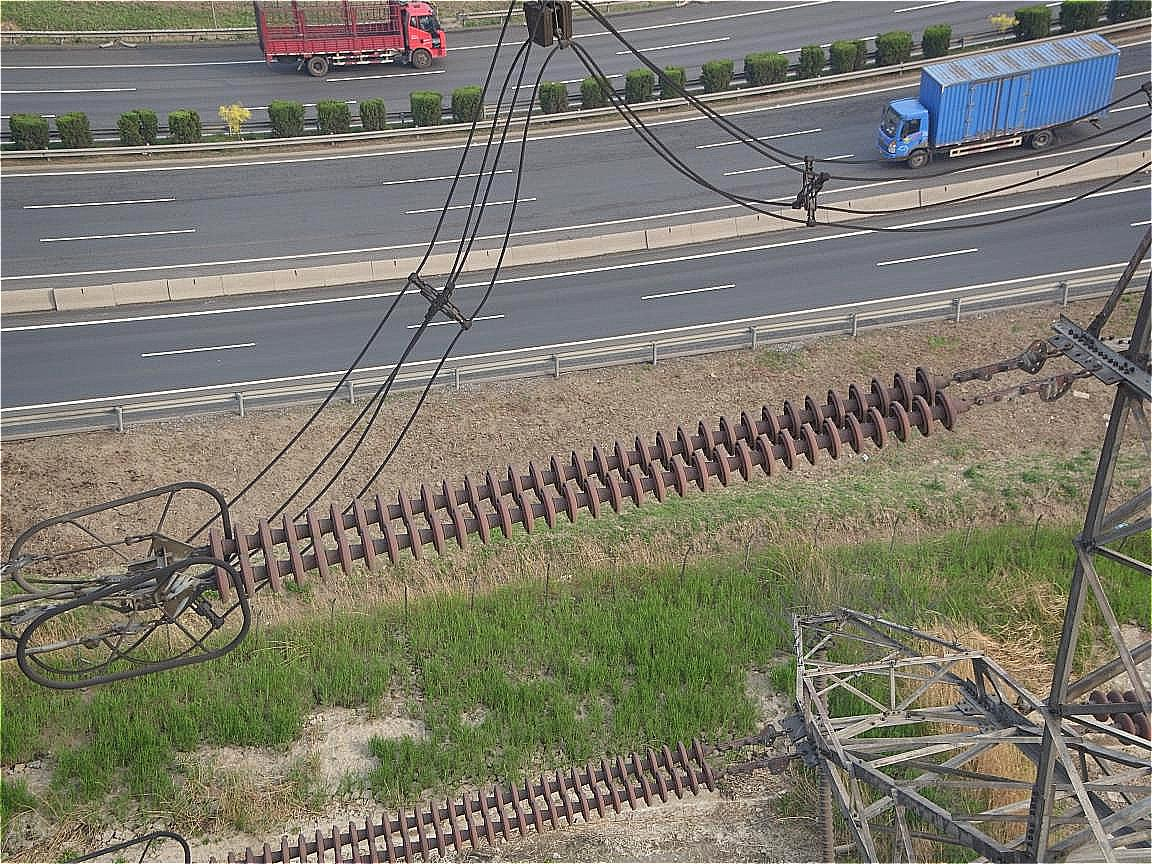insultor1: (187, 354, 985, 615), (172, 731, 725, 864)
